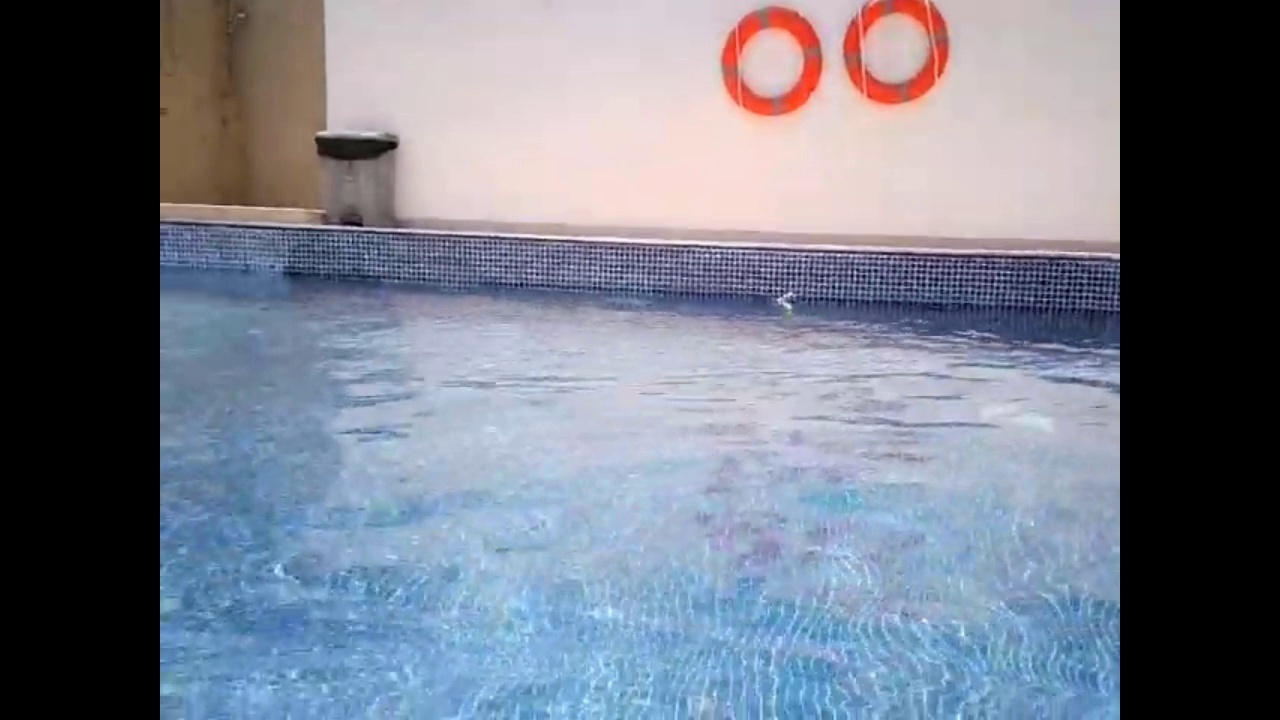debris: (770, 288, 801, 313)
